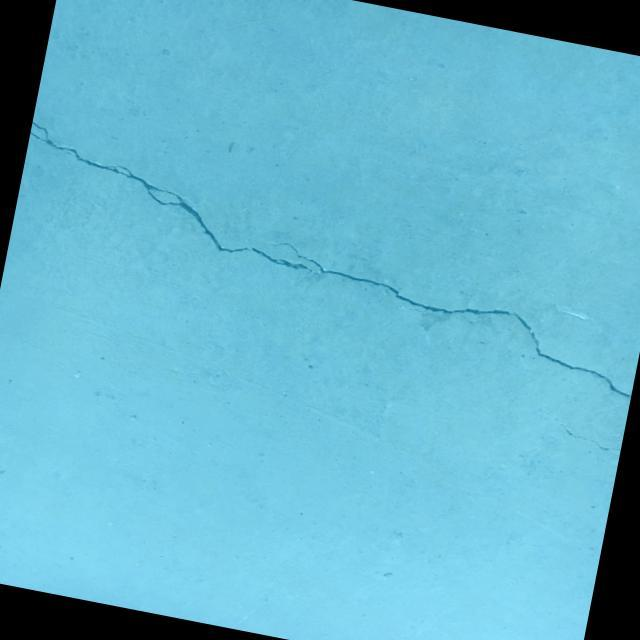crack: (2, 120, 640, 399), (534, 408, 626, 455)
